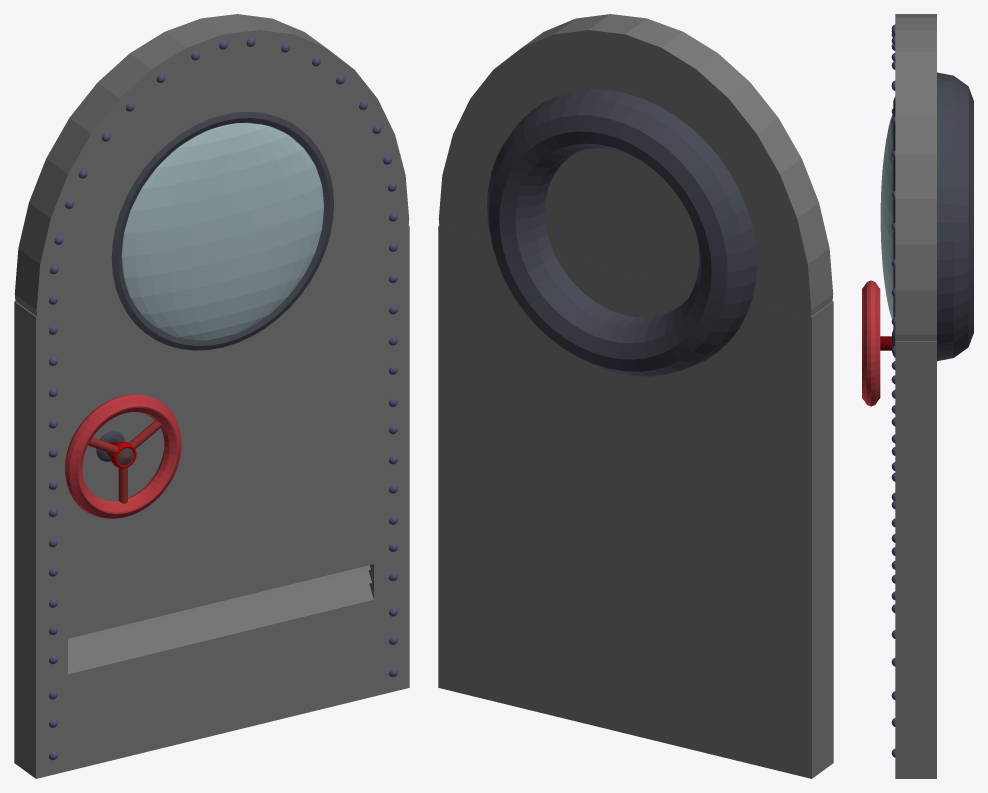
Rendered from Weapon_door.fbx.
The picture shows the model from 3 angles, left to right: view 1: azimuth 30°, elevation 25°; view 2: azimuth 150°, elevation 25°; view 3: azimuth 270°, elevation 25°; orthographic projection. The views are drawn at different scales.
Parts seen in each view (by area): view 1: 立方体, 円柱, 球, 円錐, Torus; view 2: 立方体, 円柱, Torus; view 3: 立方体, 円柱, Torus, 円錐, 球.
Boxes of the visible parts, x1,y1,x2,y2 form: 立方体: (14,225,409,778); 円柱: (14,14,409,316); 球: (121,123,323,340); 円錐: (65,394,181,518); Torus: (111,112,333,350); 立方体: (438,225,833,778); 円柱: (438,14,833,316); Torus: (487,89,757,376); 立方体: (895,341,936,778); 円柱: (895,14,936,340); Torus: (893,72,973,361); 円錐: (862,280,891,406); 球: (880,112,893,319).
Bounding box in the file's own units: 345 × 616 × 94.28.
